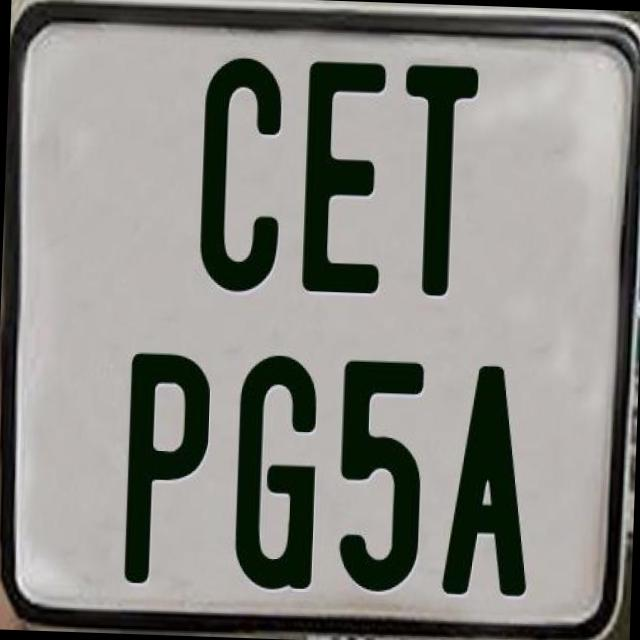5: (333, 359, 428, 602)
A: (438, 362, 538, 600)
C: (195, 52, 286, 294)
E: (301, 57, 389, 295)
G: (233, 352, 325, 598)
P: (123, 347, 215, 582)
T: (396, 62, 480, 300)
